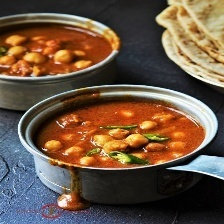roti: (155, 0, 224, 87)
